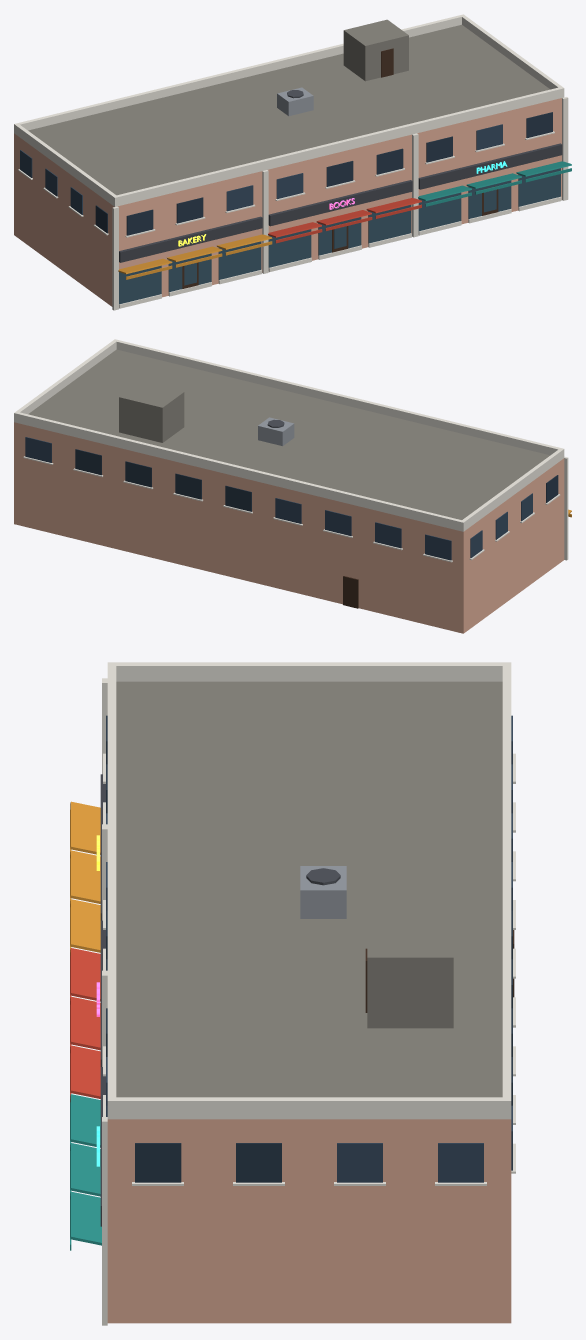
Rendered from shop_b.glb.
3 renders of one model, top to bottom at view 1: azimuth 30°, elevation 25°; view 2: azimuth 150°, elevation 25°; view 3: azimuth 270°, elevation 25°, orthographic. The views are drawn at different scales.
Parts seen in each view (by area): view 1: shop_b; view 2: shop_b; view 3: shop_b.
Boxes of the visible parts, x1=… form: shop_b: x1=14, y1=14, x2=571, y2=310; shop_b: x1=14, y1=339, x2=571, y2=633; shop_b: x1=70, y1=662, x2=515, y2=1325.
Size of what is drawn, in the model's own units: 36.4 by 10.6 by 15.47.
